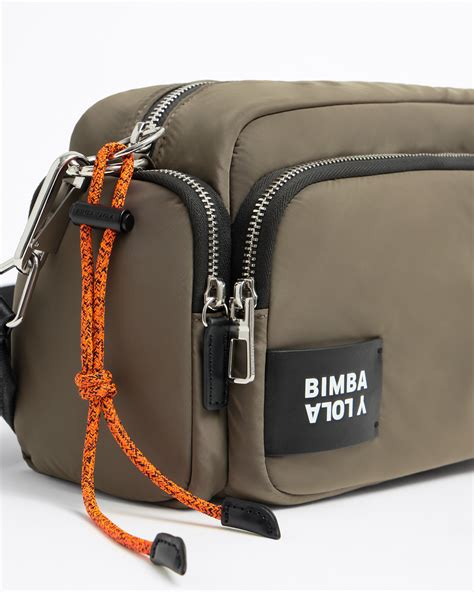nylon: (1, 78, 474, 510)
